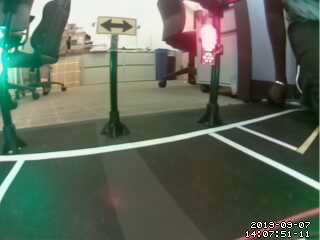Left_Right_sign: (94, 15, 139, 36)
Traffic_light_green: (1, 30, 9, 75)
Traffic_light_red: (201, 19, 215, 60)
